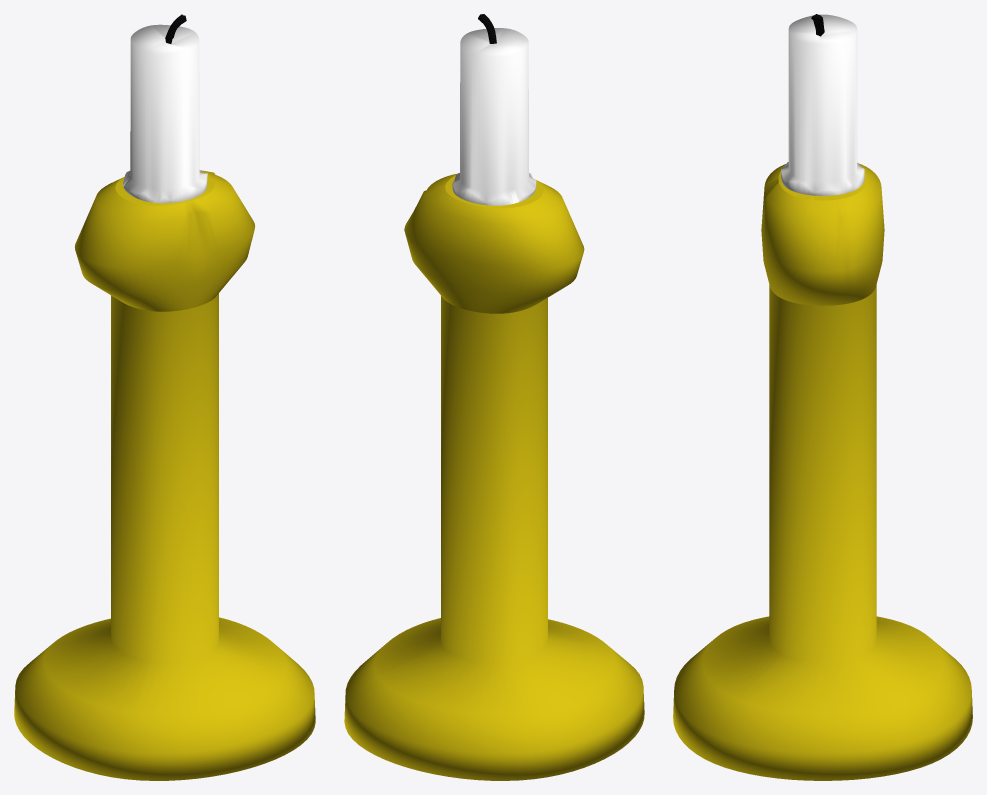
The model's file is candle.obj.
The picture shows the model from 3 angles, left to right: view 1: azimuth 30°, elevation 25°; view 2: azimuth 150°, elevation 25°; view 3: azimuth 270°, elevation 25°; orthographic projection.
Visible parts, largest first — view 1: Cube_Cube.001; view 2: Cube_Cube.001; view 3: Cube_Cube.001.
Part boxes in pixels (x1,y1,x2,y2): Cube_Cube.001: (14,14,315,780); Cube_Cube.001: (344,14,644,780); Cube_Cube.001: (673,14,972,780).
Size of the model in its own units: 1.06 by 2.77 by 1.06.
Materials: 1 (1 with a texture image).
